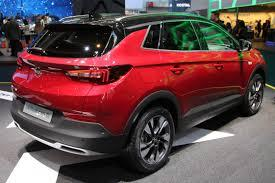opel: (29, 61, 43, 78)
